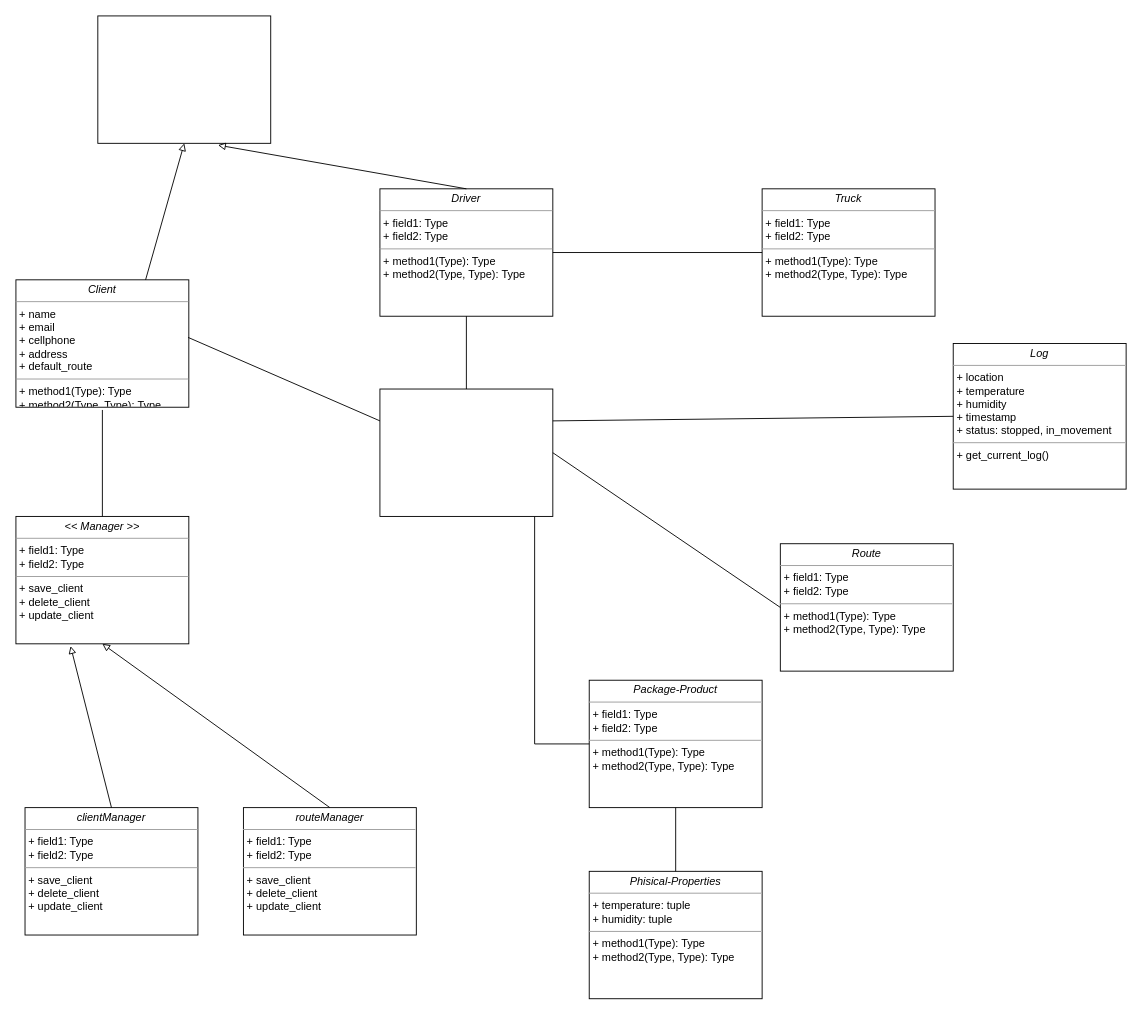
Some shapes in this 1142 by 1015 pixel diagram are drawn without their labels. Each missing label, with the centre of its shape:
"<< Persona >> + field1: Type + field2: Type + get_data()" goes at point (184, 79).
"Shippping + start_place + end_place +" goes at point (466, 452).
